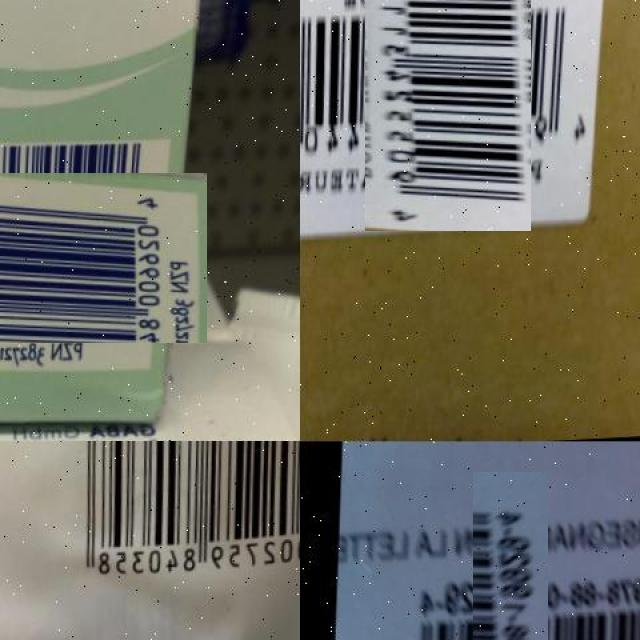Barcode: (332, 0, 563, 199), (0, 154, 189, 361), (59, 442, 300, 602), (426, 518, 594, 640)
